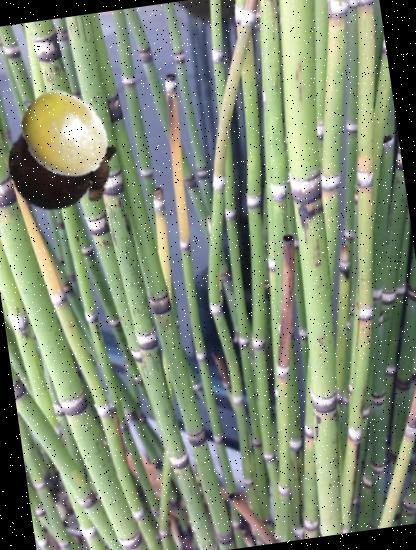Mangostan: (2, 104, 123, 225)
Maracuja: (8, 77, 120, 189)
